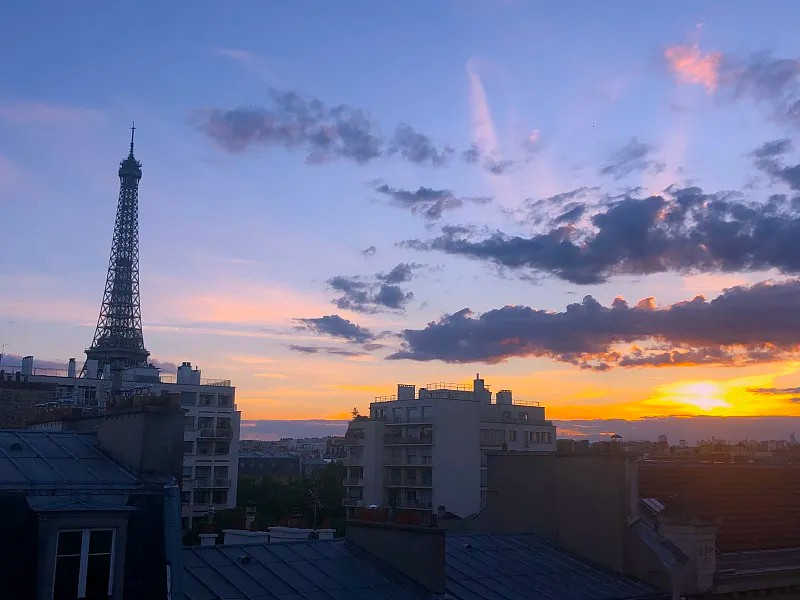Eiffel: (77, 122, 160, 378)
